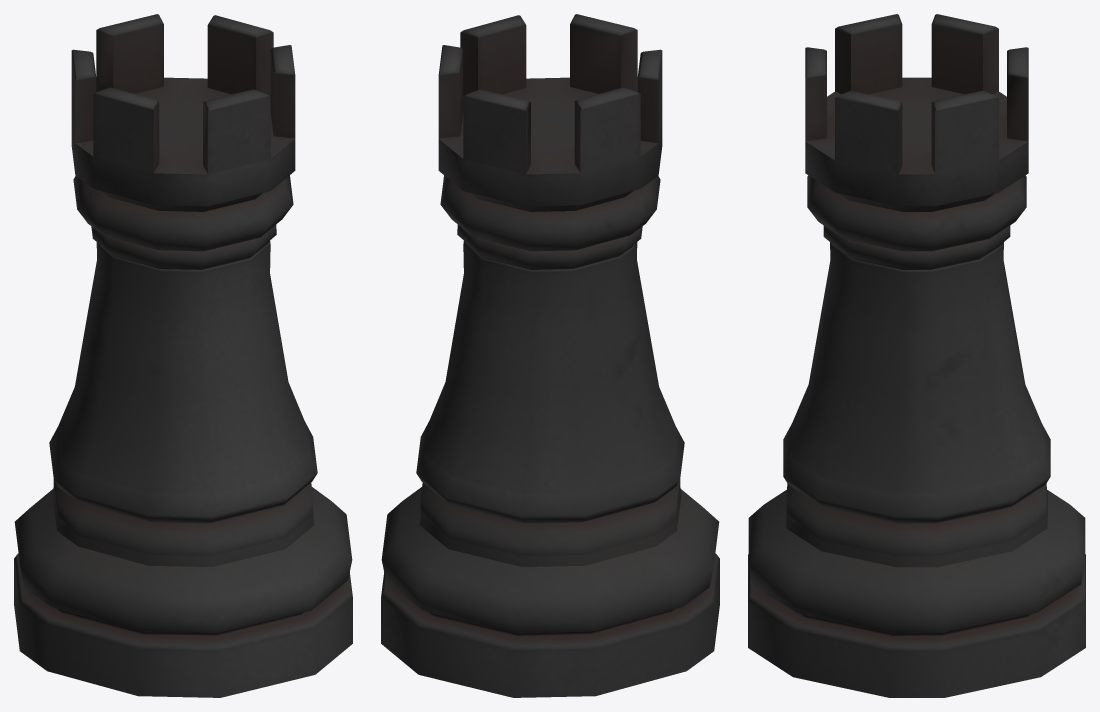
Rendered from item-1.glb.
3 renders of one model, left to right at view 1: azimuth 30°, elevation 25°; view 2: azimuth 150°, elevation 25°; view 3: azimuth 270°, elevation 25°, orthographic.
Parts seen in each view (by area): view 1: BlackTower; view 2: BlackTower; view 3: BlackTower.
Boxes of the visible parts, left/top/right/bottom form: BlackTower: left=14, top=14, right=352, bottom=697; BlackTower: left=381, top=14, right=719, bottom=697; BlackTower: left=748, top=14, right=1085, bottom=697.
Size of the model in its own units: 0.092 by 0.1651 by 0.0897.
1 material, 1 textured.
